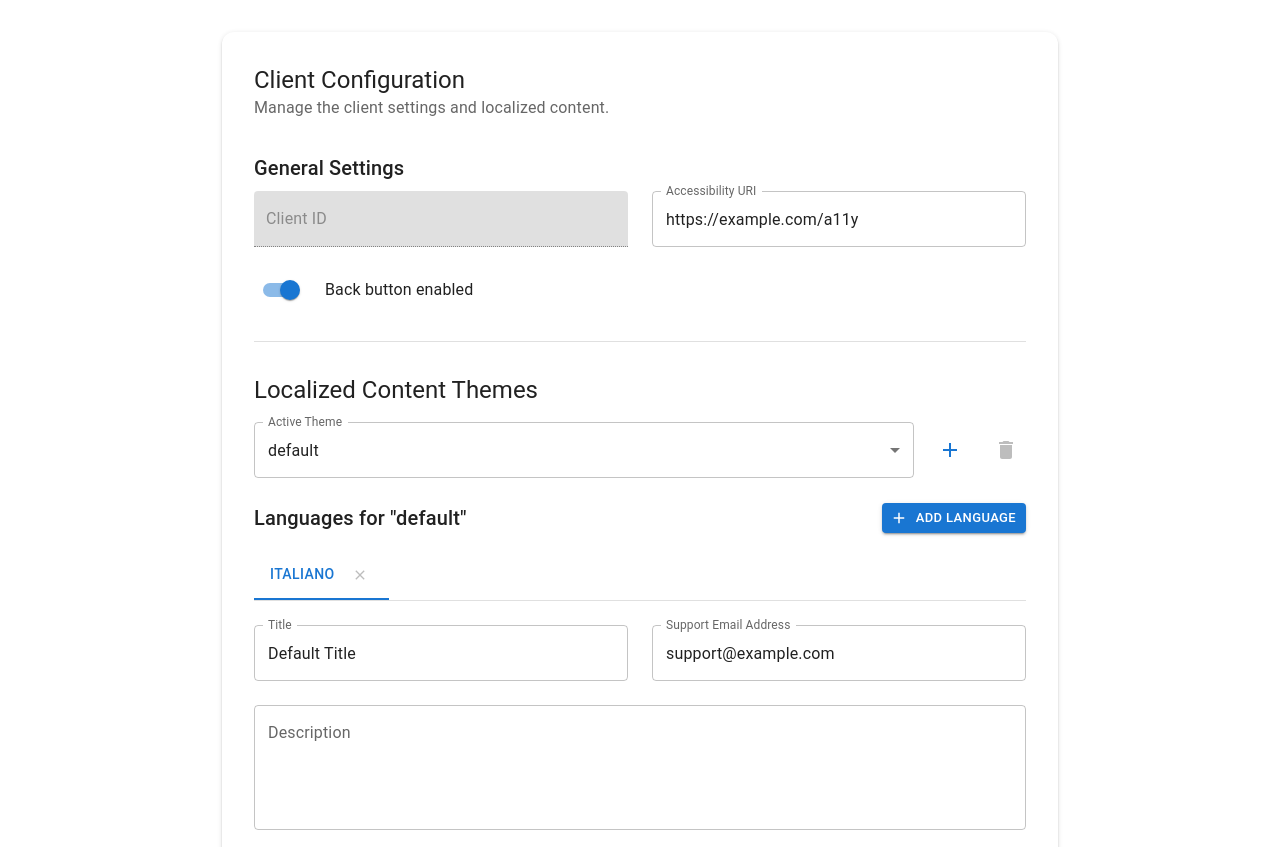
Scenario: Refactored ReservedAreaForm Component › should prevent adding a new theme with an invalid key
Click the button named "Add New Theme": click(950, 450) [930,430,970,470]
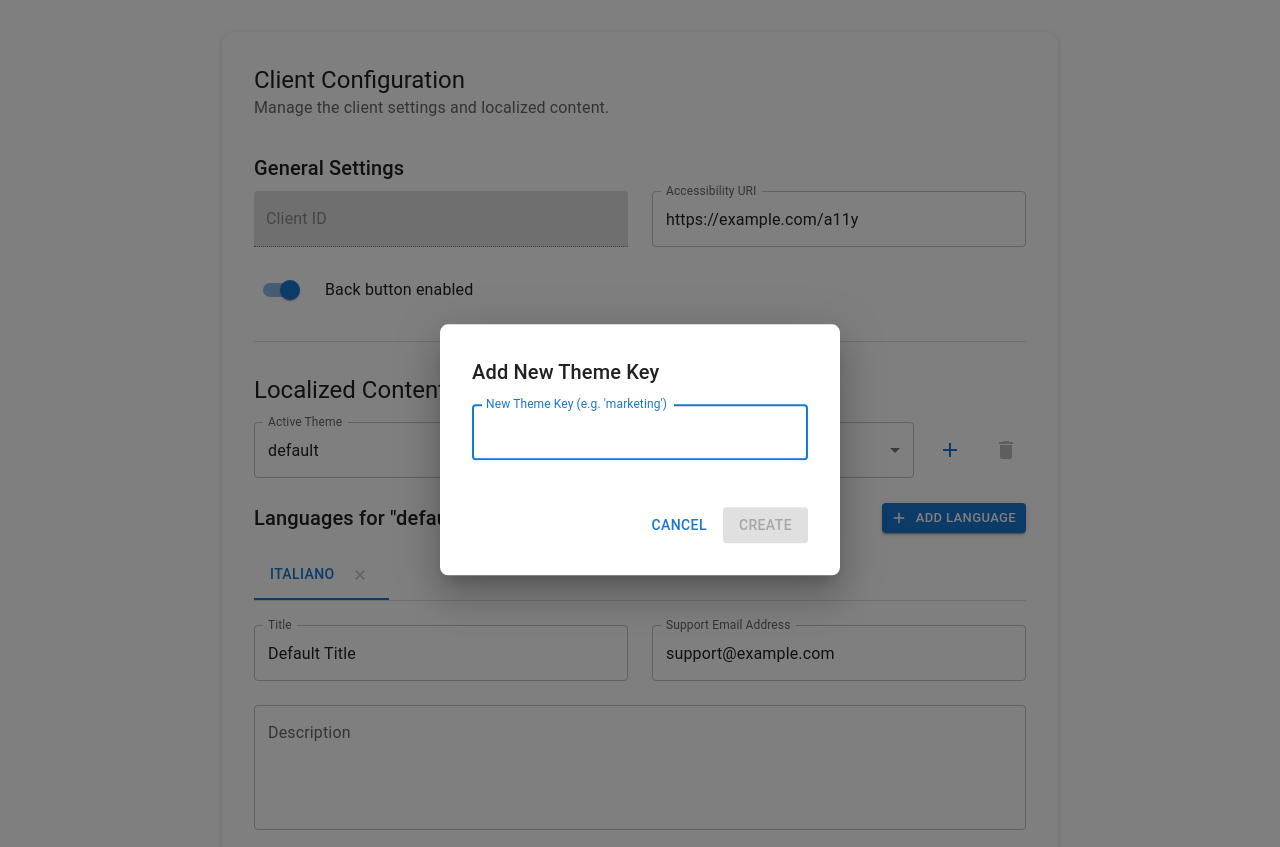
In the field labelled "New Theme Key (e.g. 'marketing')": (640, 432) [472,404,808,460], type "_marketing"
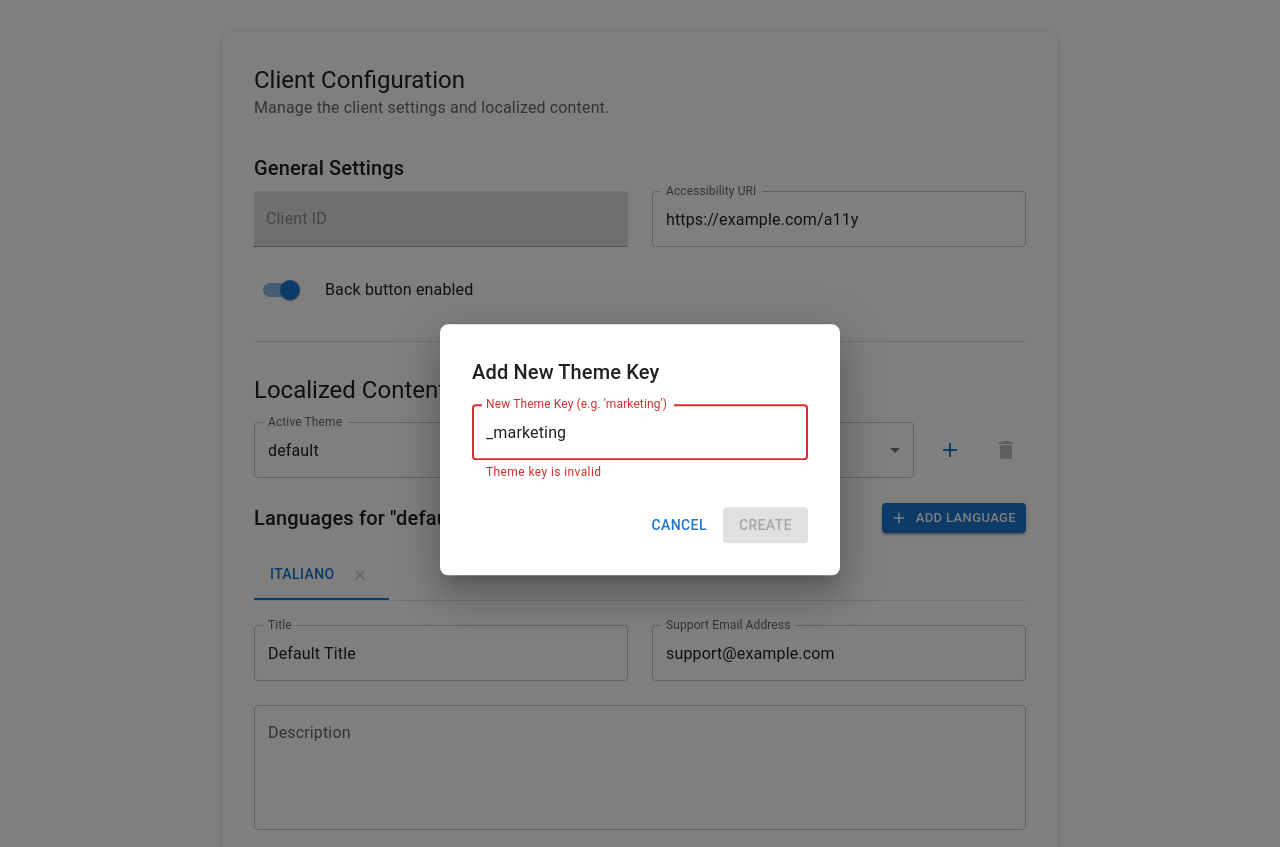
Check: the element with test id "theme-select" reads "default", box [268,440,319,460]
Check: the button "Create" is disabled, box [723,507,808,544]
Check: the text "Theme key is invalid" is shown, box [486,465,601,479]
